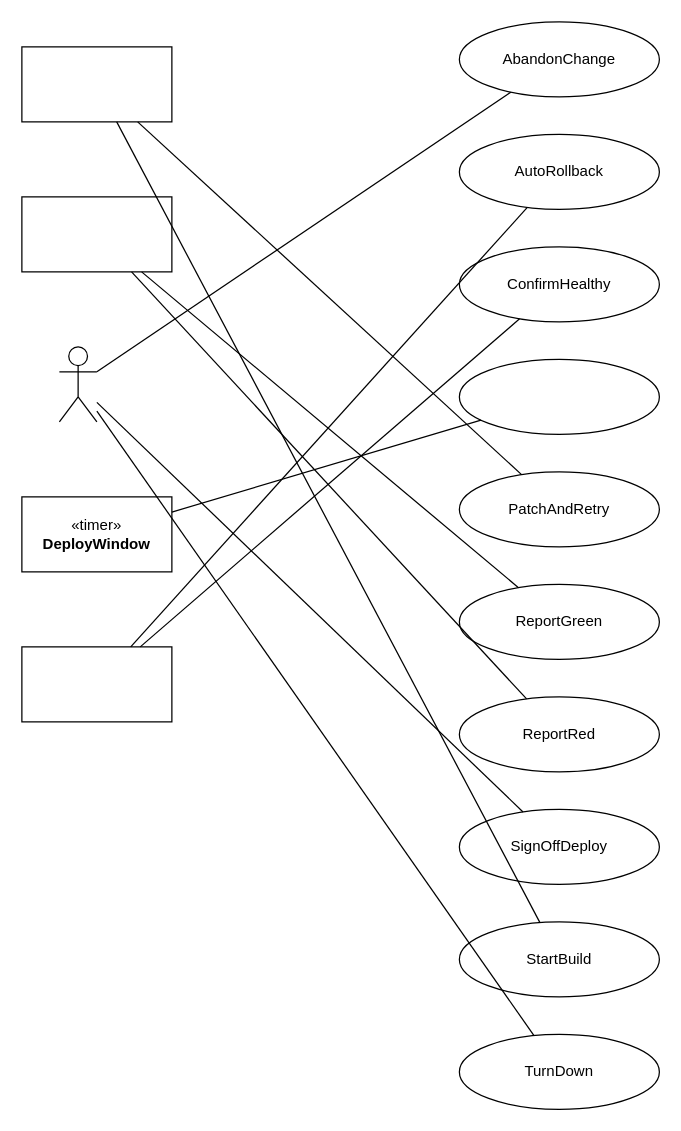
This 681x1131 diagram has some shape labels left out. Here are the shapes that lost their labels. From the top down, the centre of each, then its label:
the point at 96,84: «agent» OpsAgent
the point at 96,234: «system» CiServer
the point at 77,384: OnCall
the point at 558,396: OpenWindow
the point at 96,684: «system» HealthMonitor
